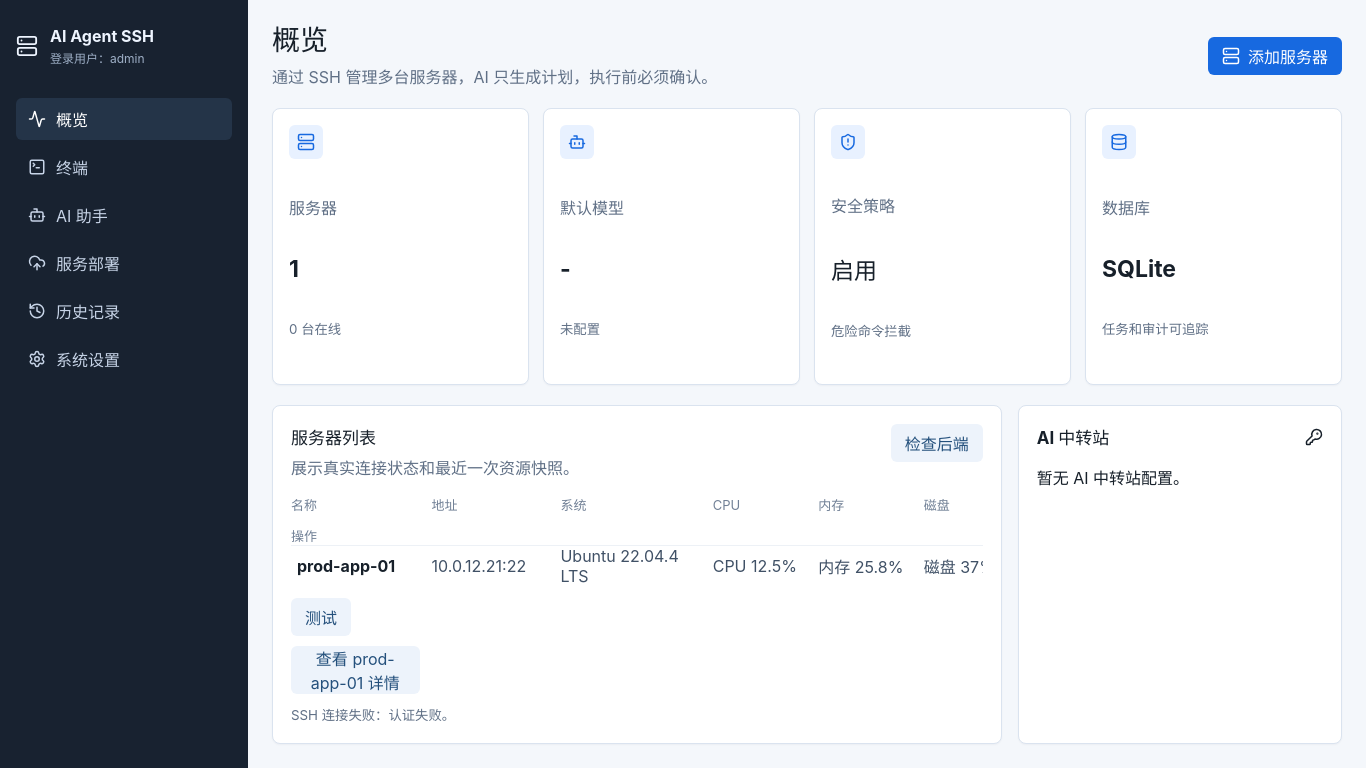
Test: App interactions › shows Chinese server status and connection test result
Expected: the text "SSH 连接失败：认证失败。" is shown, [291,707,455,723]
Click the button "测试". click: (321, 617)
box: [291,598,351,636]
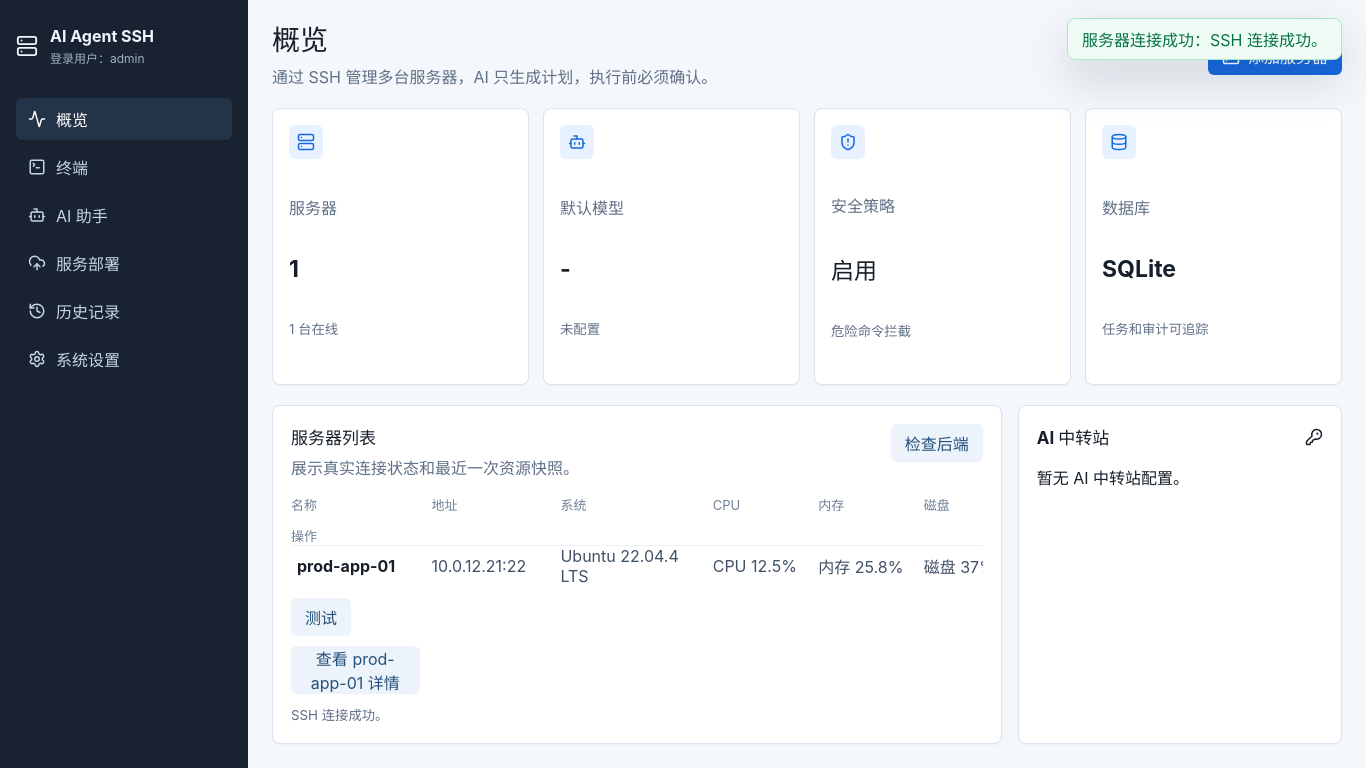
Result: the text "服务器连接成功：SSH 连接成功。" is shown at [1067,18,1342,60]
